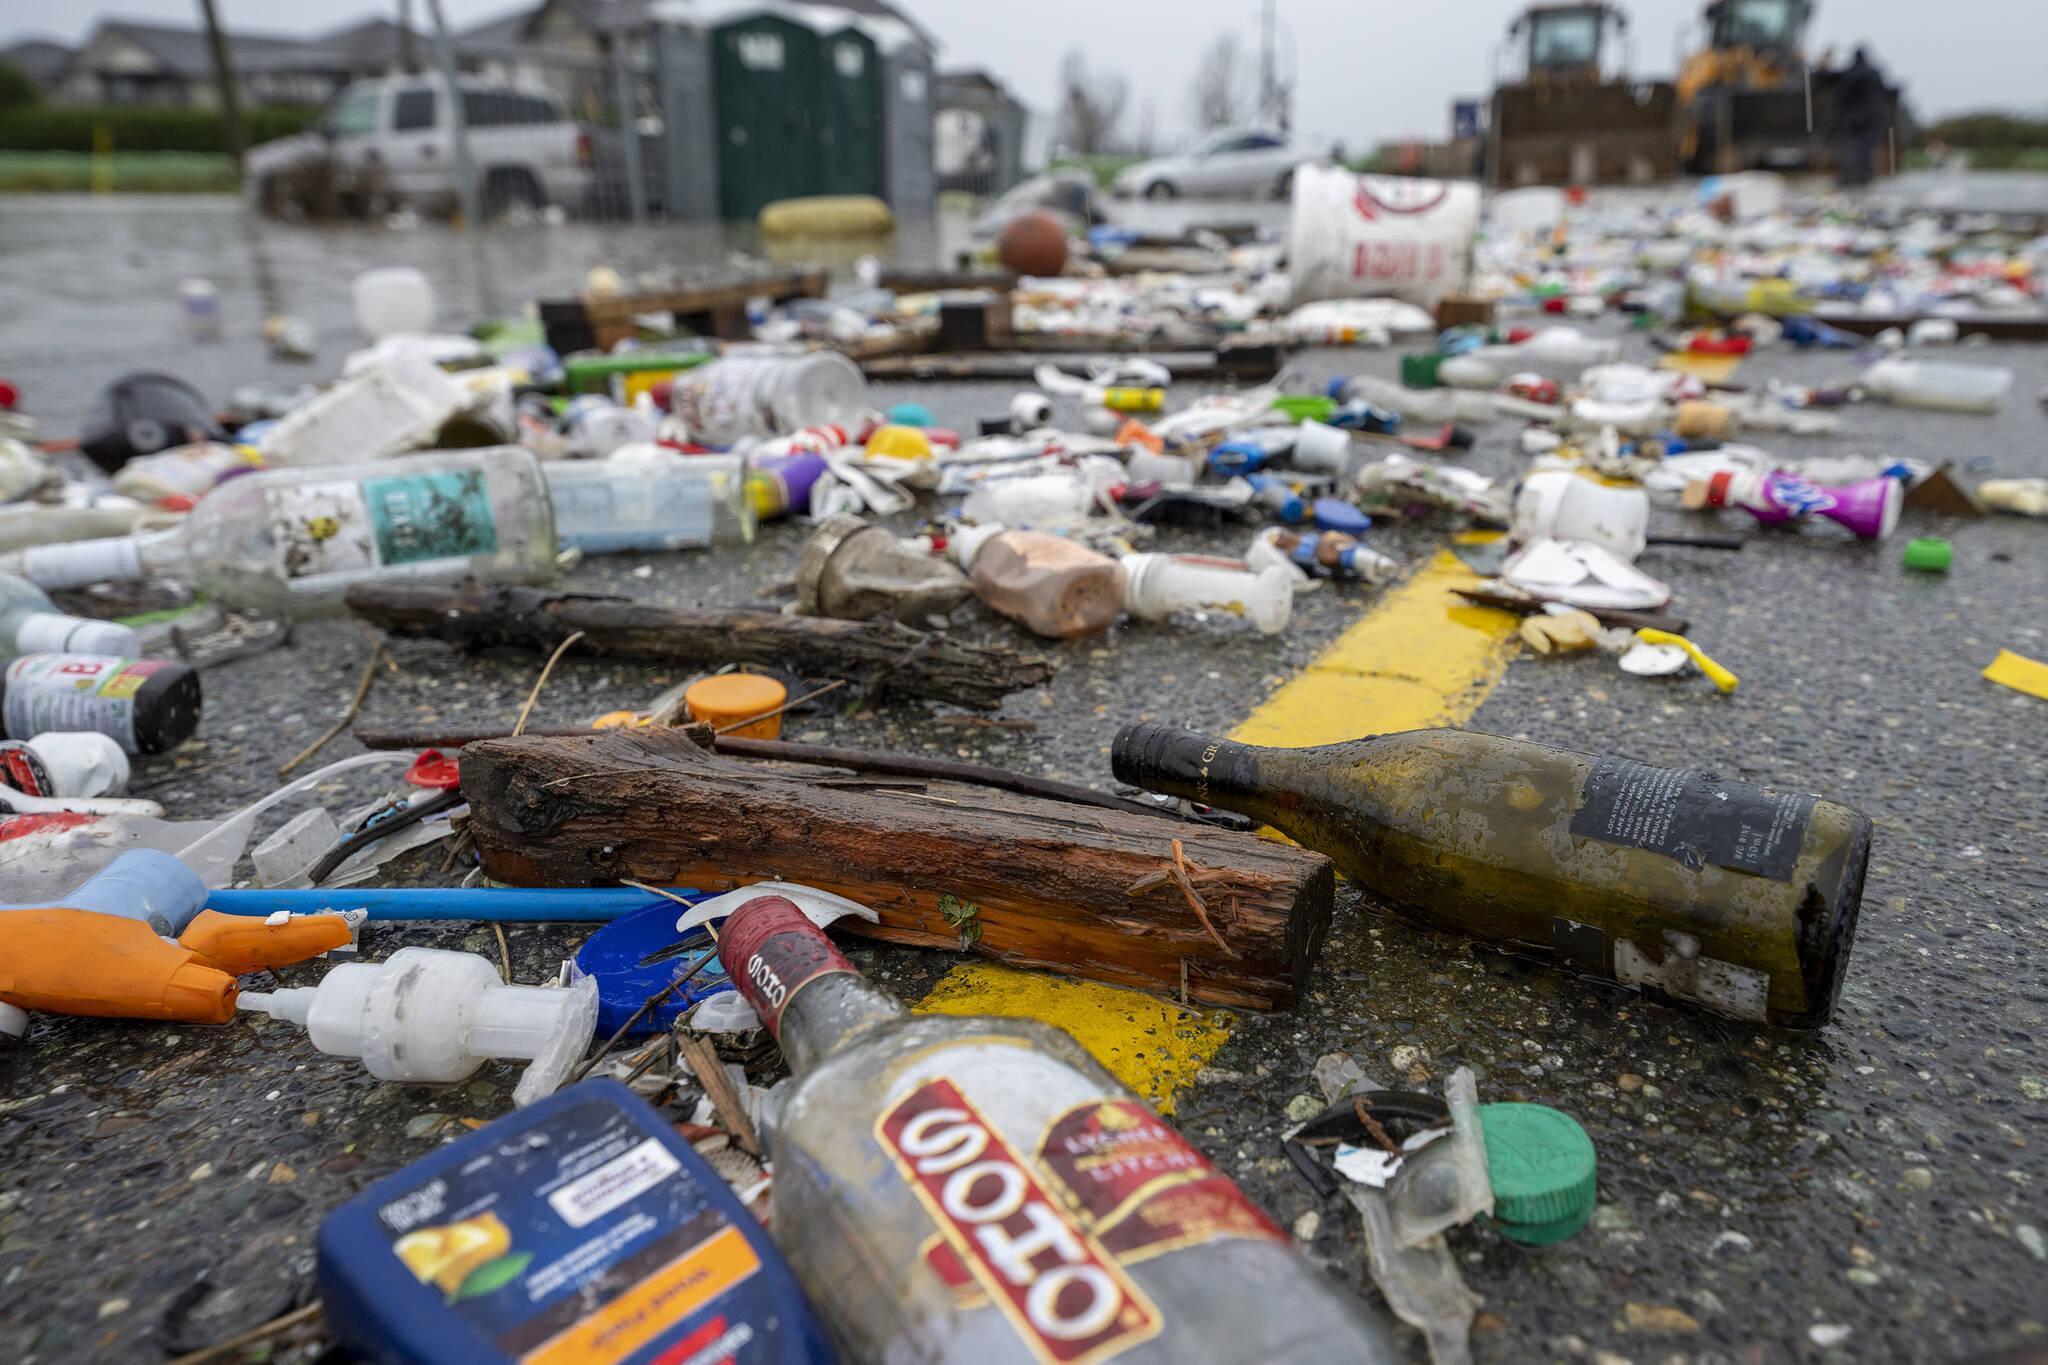Glass: (721, 894, 1392, 1365), (1098, 704, 1889, 1036), (9, 437, 570, 614)
Plastic: (295, 1071, 748, 1365)
